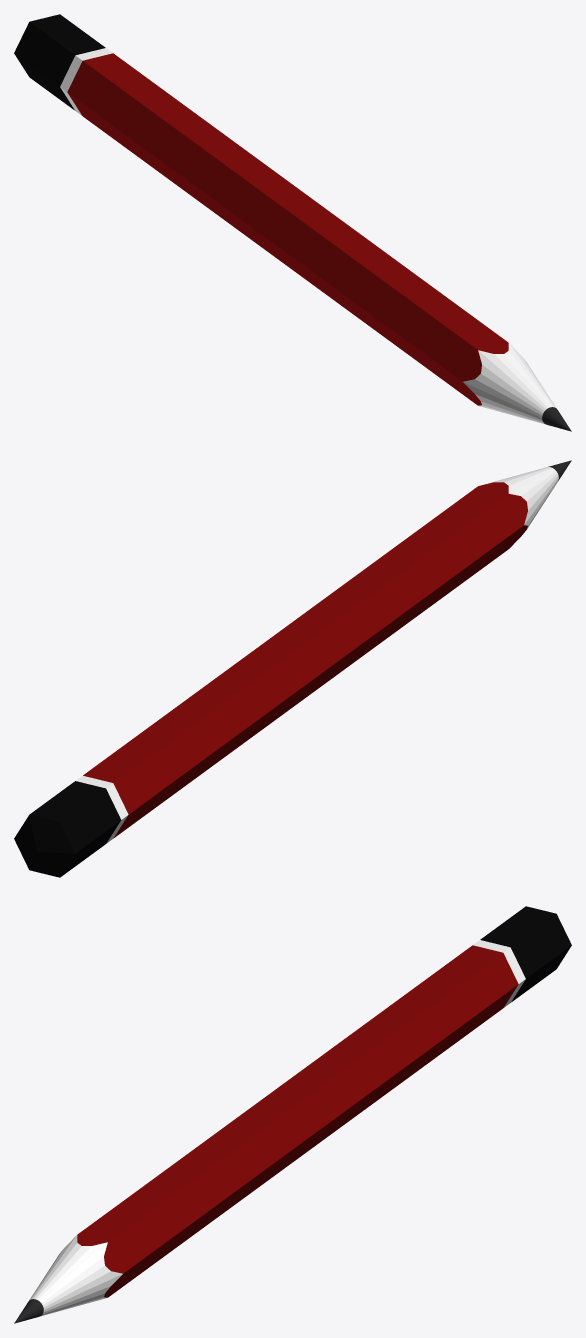
3 views of the same model, one above another, from view 1: azimuth 30°, elevation 25°; view 2: azimuth 150°, elevation 25°; view 3: azimuth 330°, elevation 25° (orthographic).
Visible parts, largest first — view 1: pencil; view 2: pencil; view 3: pencil.
Boxes of the visible parts, bbox=[...] form: pencil: bbox=[14, 14, 571, 431]; pencil: bbox=[14, 460, 571, 877]; pencil: bbox=[14, 906, 571, 1323].
Bounding box in the file's own units: 0.9808 × 0.8494 × 14.81.
